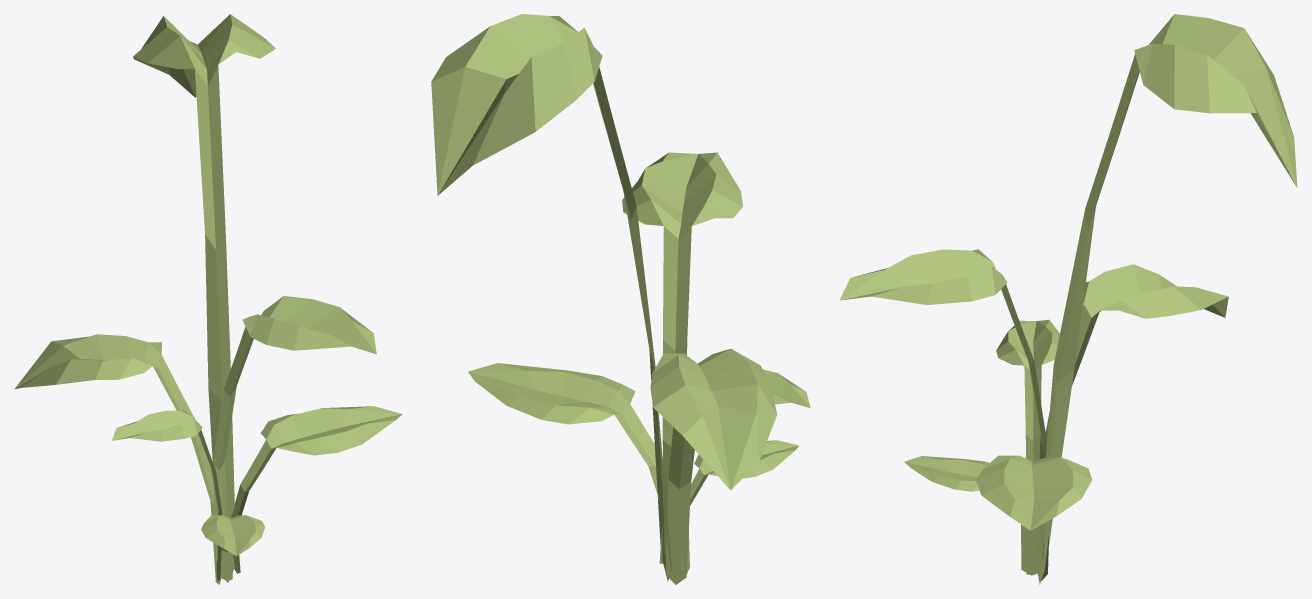
File: plant.gltf
3 renders of one model, left to right at view 1: azimuth 30°, elevation 25°; view 2: azimuth 150°, elevation 25°; view 3: azimuth 270°, elevation 25°, orthographic. The views are drawn at different scales.
Visible parts, largest first — view 1: Leaf.003, Leaf.005, Leaf.002, Leaf, Leaf.004, Leaf.001; view 2: Leaf.003, Leaf.002, Leaf.005, Leaf, Leaf.001, Leaf.004; view 3: Leaf.003, Leaf.005, Leaf, Leaf.002, Leaf.004, Leaf.001.
Part boxes in pixels (x1,y1,x2,y2): Leaf.003: [133, 14, 275, 582]; Leaf.005: [213, 296, 376, 565]; Leaf.002: [14, 334, 221, 584]; Leaf: [231, 406, 402, 573]; Leaf.004: [112, 410, 222, 581]; Leaf.001: [201, 515, 265, 581]; Leaf.003: [431, 14, 671, 581]; Leaf.002: [650, 348, 777, 584]; Leaf.005: [622, 152, 742, 554]; Leaf: [468, 363, 663, 563]; Leaf.001: [690, 440, 798, 505]; Leaf.004: [681, 369, 810, 573]; Leaf.003: [1036, 14, 1297, 584]; Leaf.005: [839, 249, 1046, 558]; Leaf: [976, 455, 1092, 575]; Leaf.002: [1041, 264, 1228, 580]; Leaf.004: [996, 319, 1059, 461]; Leaf.001: [904, 456, 1029, 574].
Size of the model in its own units: 4.67 by 7.19 by 5.17.
